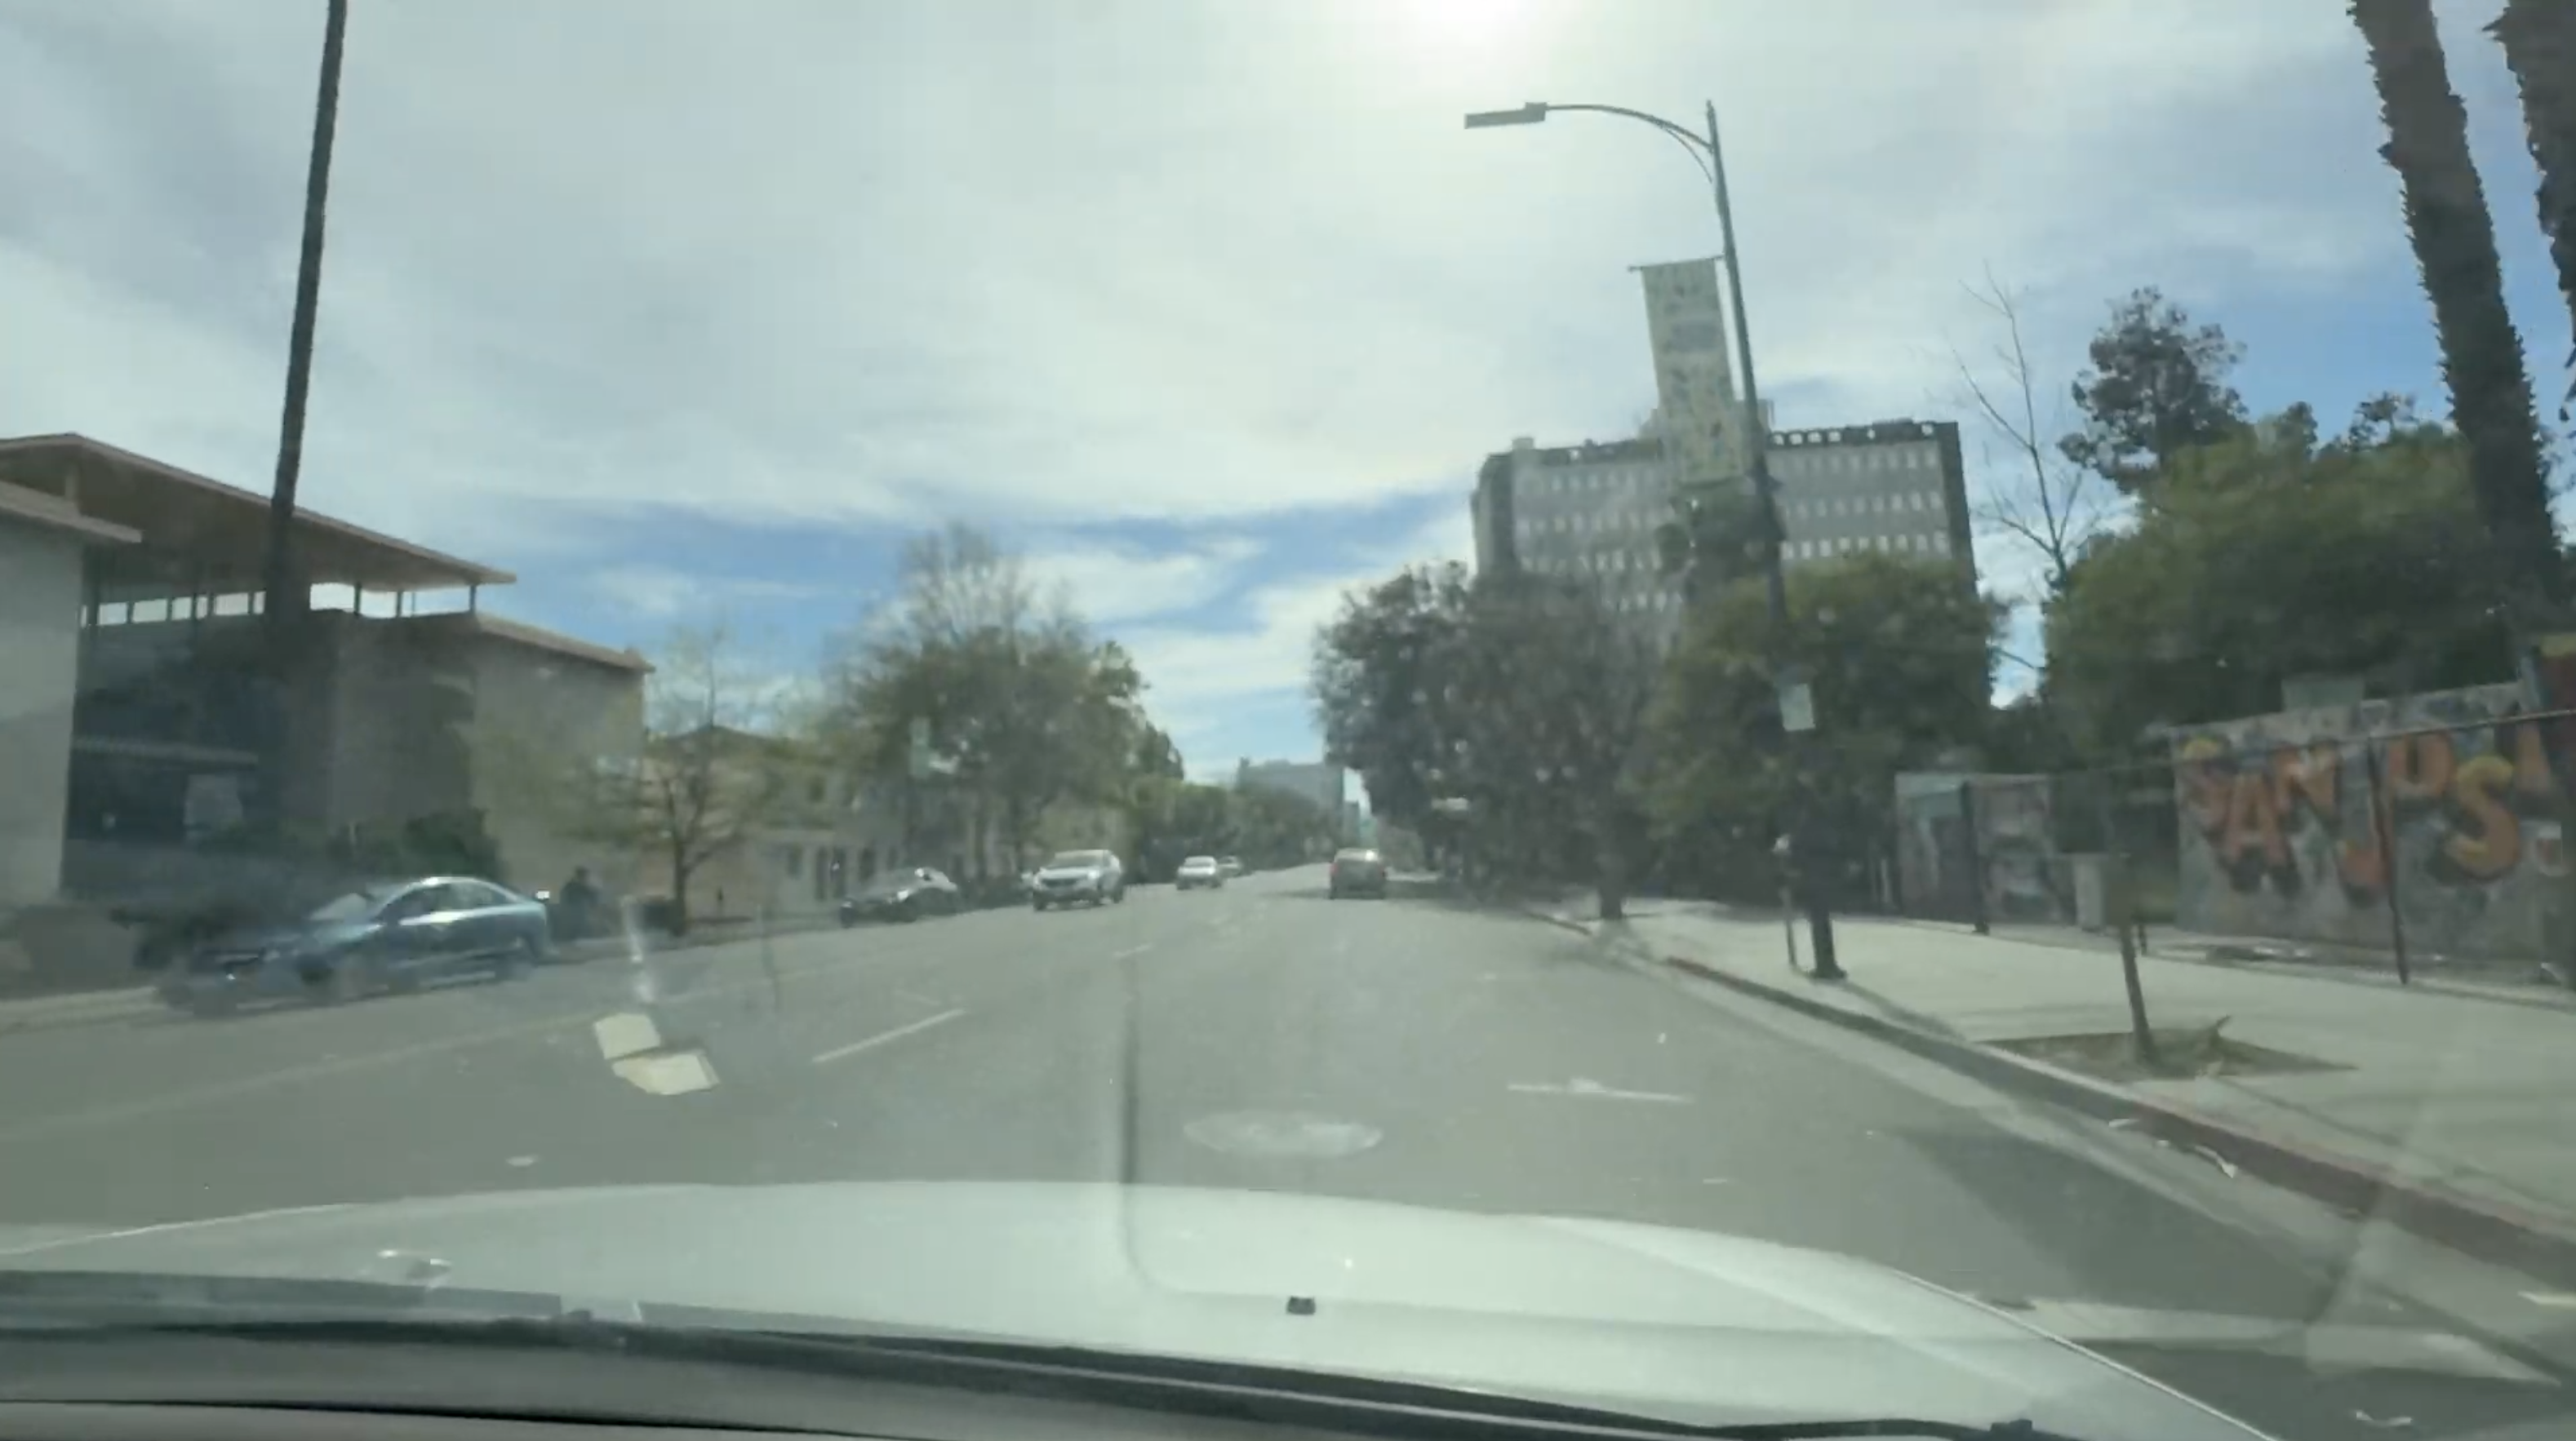graffiti: (2173, 698, 2571, 900)
